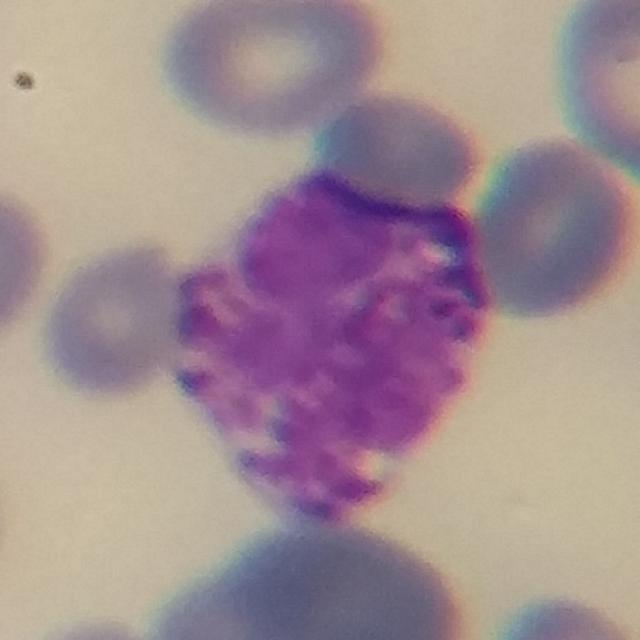Basophil: (164, 175, 500, 538)
RBC: (468, 130, 640, 327), (153, 0, 393, 141), (230, 510, 461, 640), (34, 236, 192, 403), (311, 86, 493, 225), (547, 0, 640, 182), (144, 563, 361, 640), (0, 179, 57, 347), (483, 587, 640, 640), (30, 607, 165, 640)
